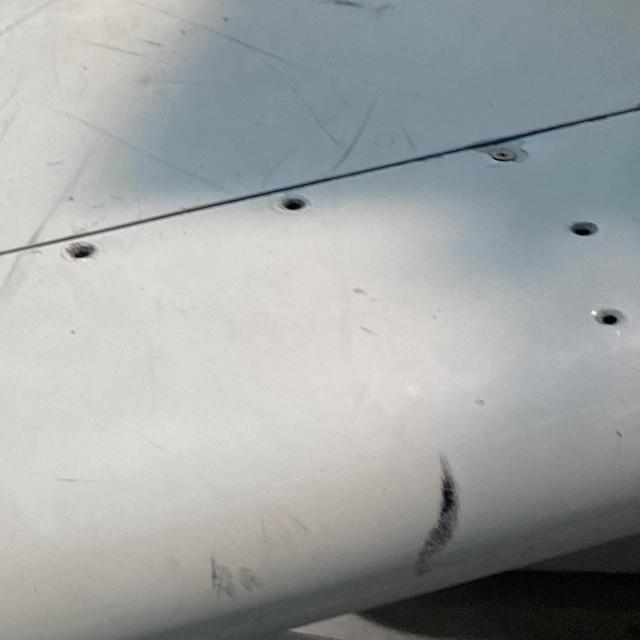Missing-head: (64, 241, 98, 260), (596, 309, 629, 326), (280, 194, 311, 211), (571, 221, 602, 236)
